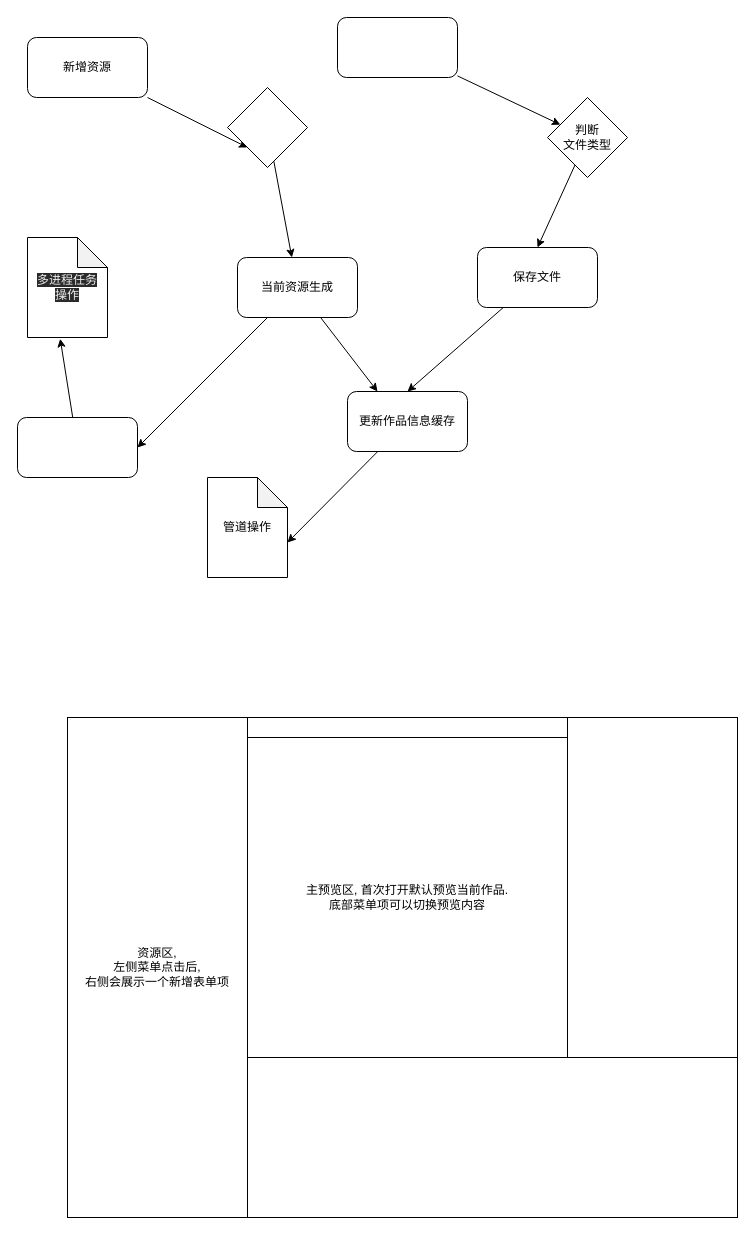
Image size: 755x1235. Some labels were removed from this diagram. The shapes that lost their labels are listed below. From the top down, each one's centre as x and y in pixels, then its label:
At point (397, 47): "上传文件".
At point (267, 127): "判断 资源类型".
At point (77, 447): "更新任务队列列表".
At point (652, 887): "右侧表单区 展示新增或修改的表单项".
At point (492, 1137): "底部菜单区, 展示作品的所有资源列表, 资源可以点击切换预览, 资源点击也会切换编辑菜单".
